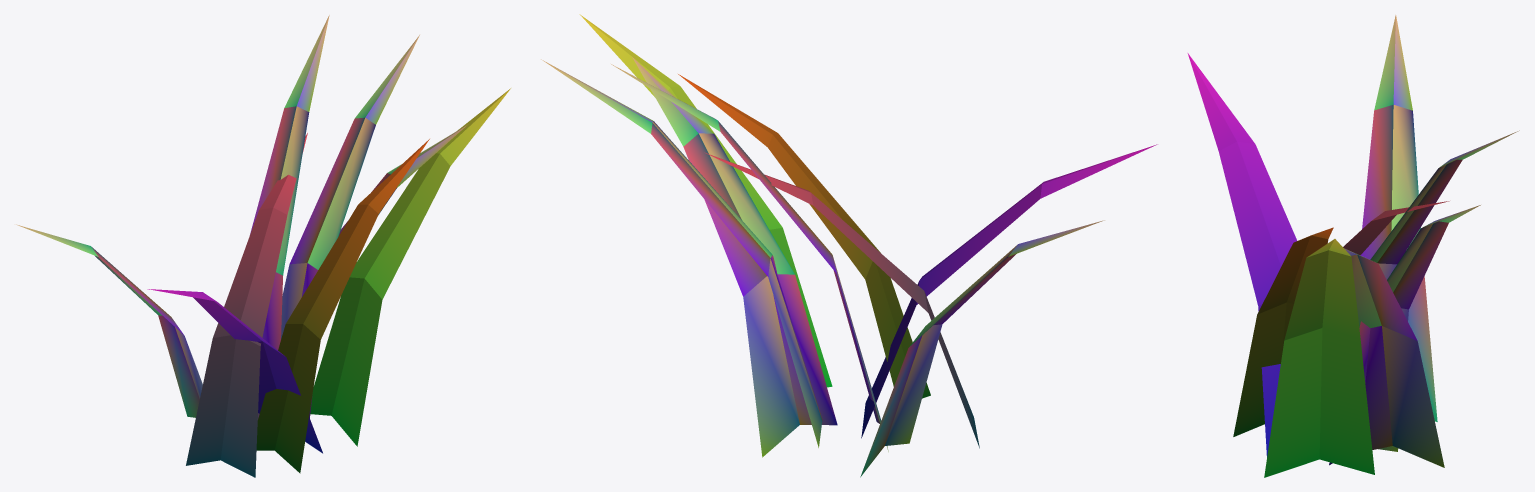
Rendered from SM_WF_GrassTuft.fbx.
The picture shows the model from 3 angles, left to right: view 1: azimuth 30°, elevation 25°; view 2: azimuth 150°, elevation 25°; view 3: azimuth 270°, elevation 25°; orthographic projection. The views are drawn at different scales.
Visible parts, largest first — view 1: SM_WF_GrassTuft; view 2: SM_WF_GrassTuft; view 3: SM_WF_GrassTuft.
Boxes of the visible parts, left/top/right/bottom form: SM_WF_GrassTuft: left=16, top=15, right=510, bottom=477; SM_WF_GrassTuft: left=541, top=14, right=1157, bottom=477; SM_WF_GrassTuft: left=1187, top=15, right=1519, bottom=477.
Bounding box in the file's own units: 43.08 × 22.29 × 29.12.
